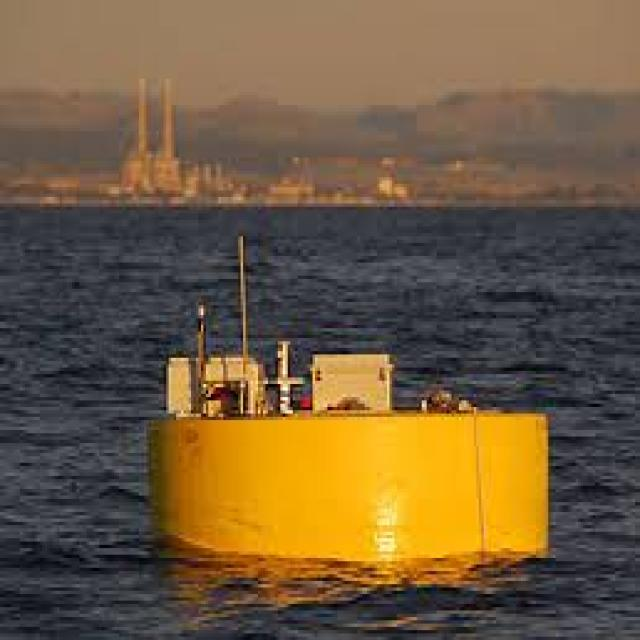marque: (129, 198, 553, 605)
